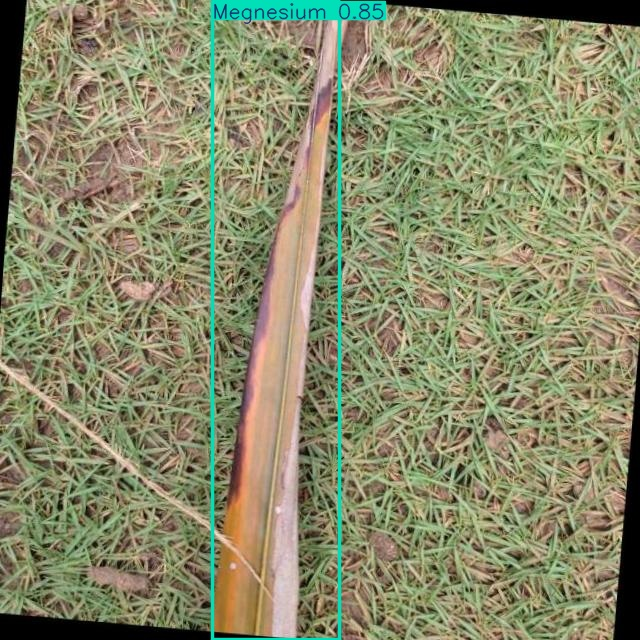Megnesium: (212, 1, 340, 639)
